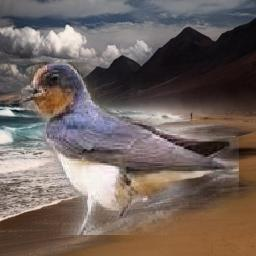Swallow: (19, 63, 239, 236)
